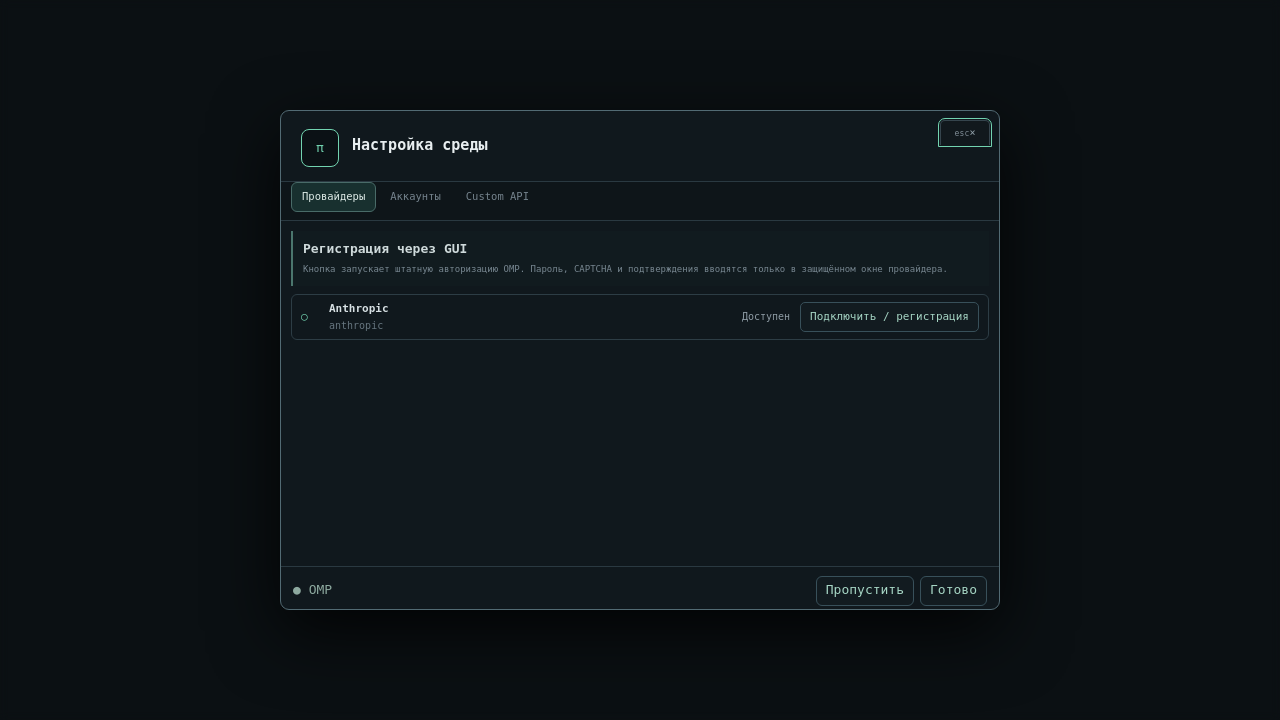
Scenario: OmpSetupOverlay › reports an RPC OAuth cancellation as a cancelled login instead of a version or timeout error
Click the button with aria-label "Подключить Anthropic" at (890, 317), box [800, 302, 979, 332]
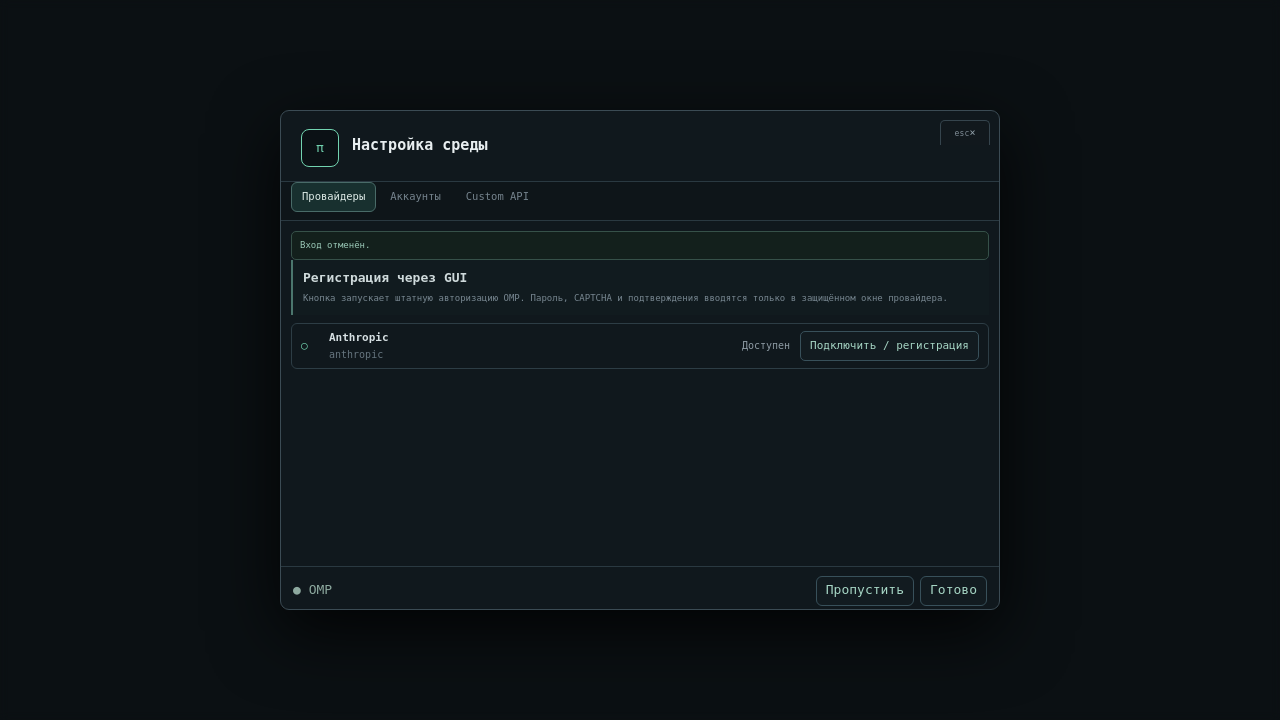
Expected: the text "Вход отменён." is shown, [291, 231, 989, 260]
